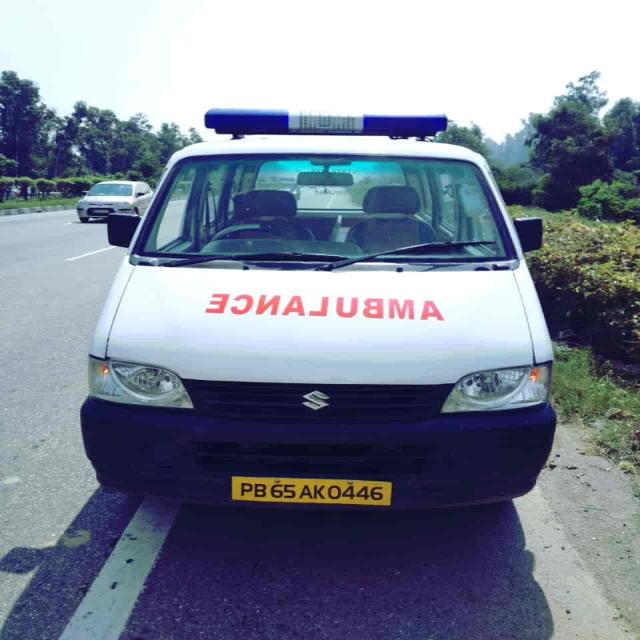ambulance: (54, 102, 565, 539)
